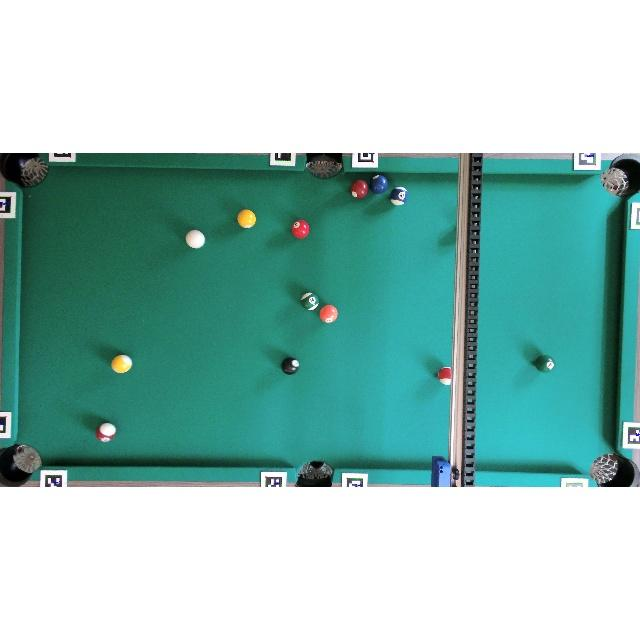cue ball: (185, 230, 205, 248)
other: (96, 422, 116, 442), (300, 291, 320, 311), (389, 187, 410, 206), (111, 355, 132, 373), (281, 356, 300, 375), (535, 355, 555, 373), (370, 174, 388, 194), (237, 210, 256, 228), (350, 180, 368, 198), (292, 220, 310, 238), (320, 305, 338, 323), (438, 367, 452, 385)
